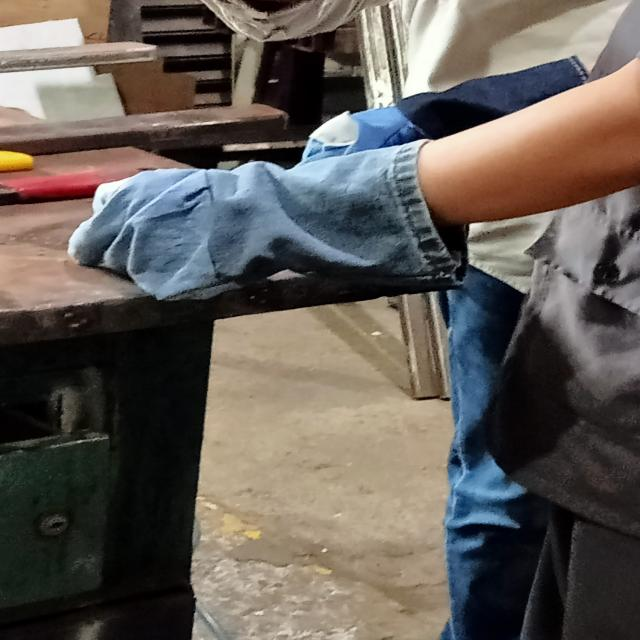Gloves-Detection: (90, 167, 464, 298), (320, 74, 563, 164)
